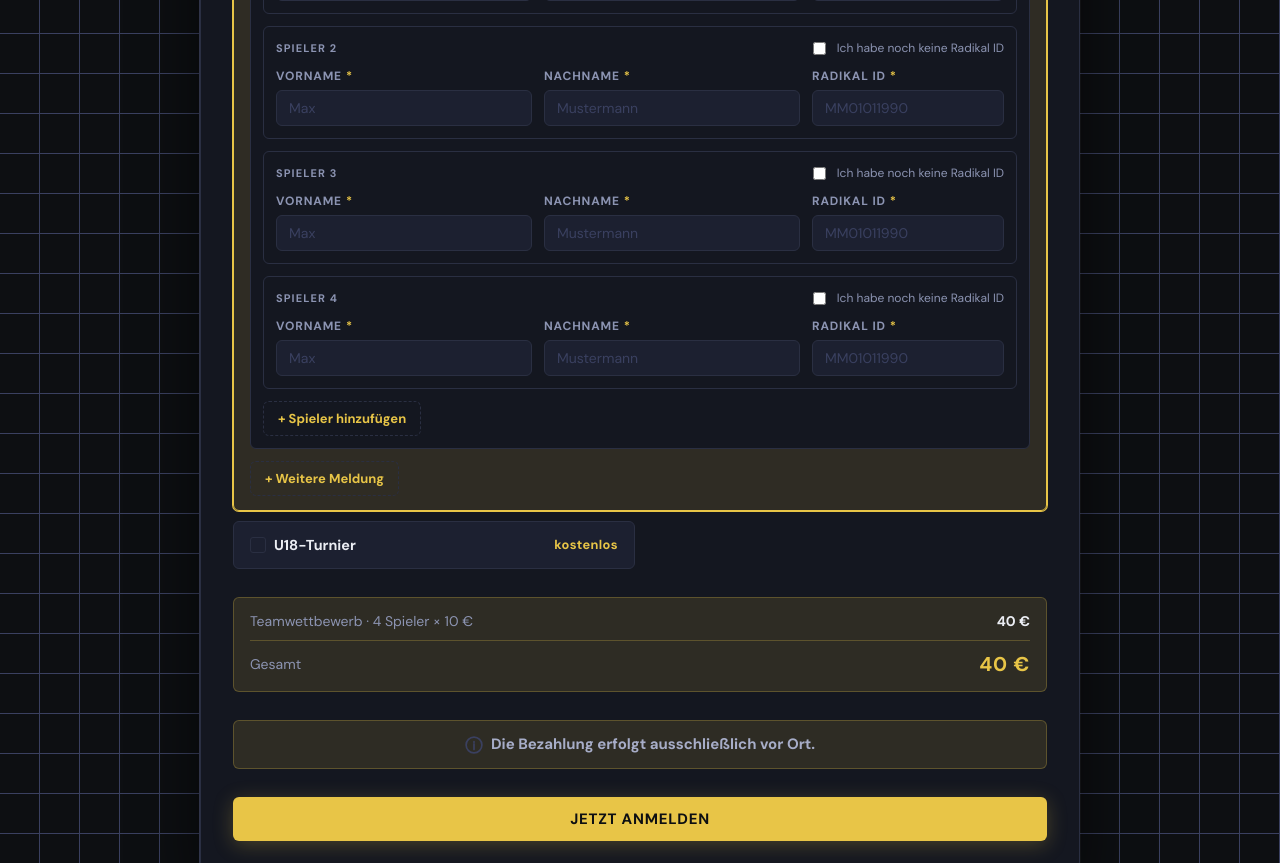
Test: AnmeldungComponent › Teamwettbewerb: 4 Pflichtzeilen, auffüllbar bis 6, keine 7.
(page scrolled)
Click the button with class "spieler-add".
click(342, 418)  # box [263,401,421,436]
(page scrolled)
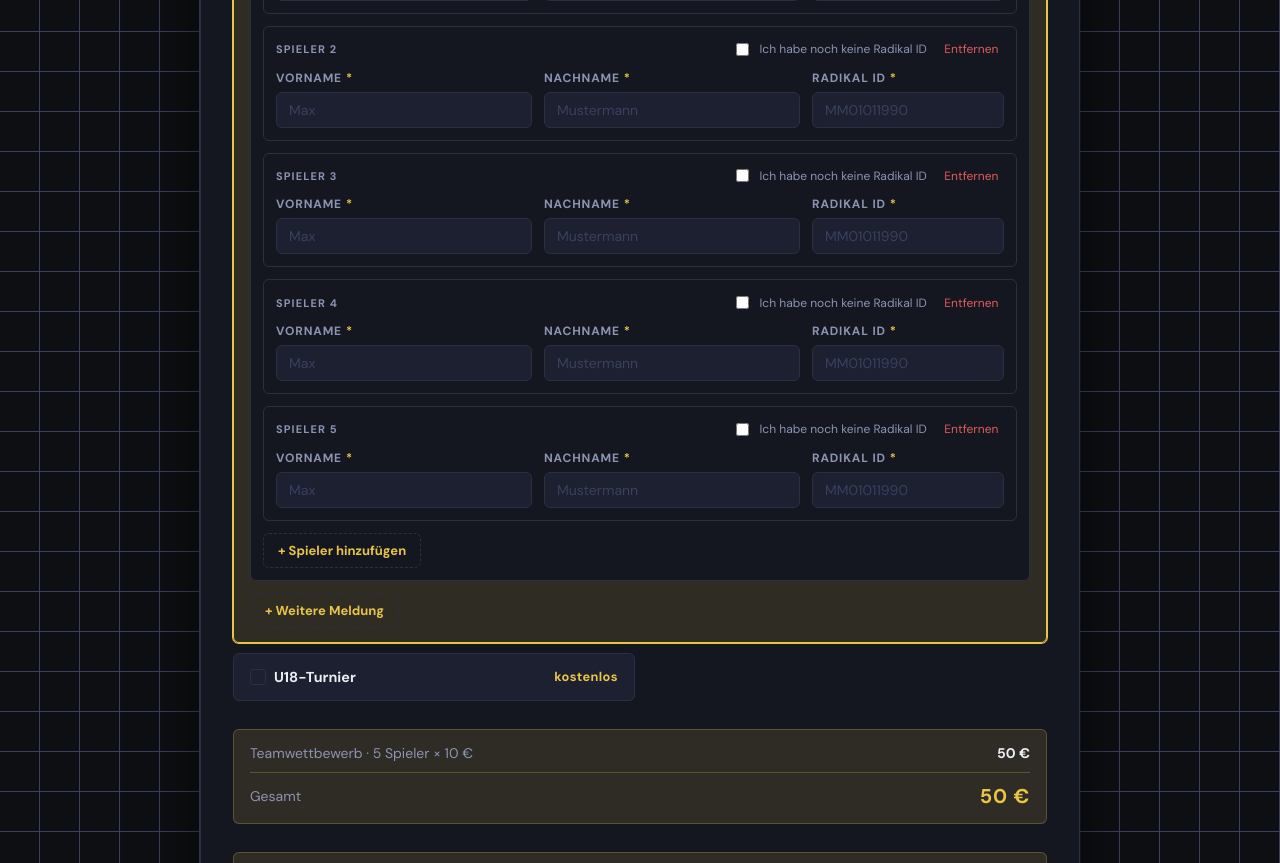
Click the button with class "spieler-add".
click(342, 550)  # box [263,533,421,568]
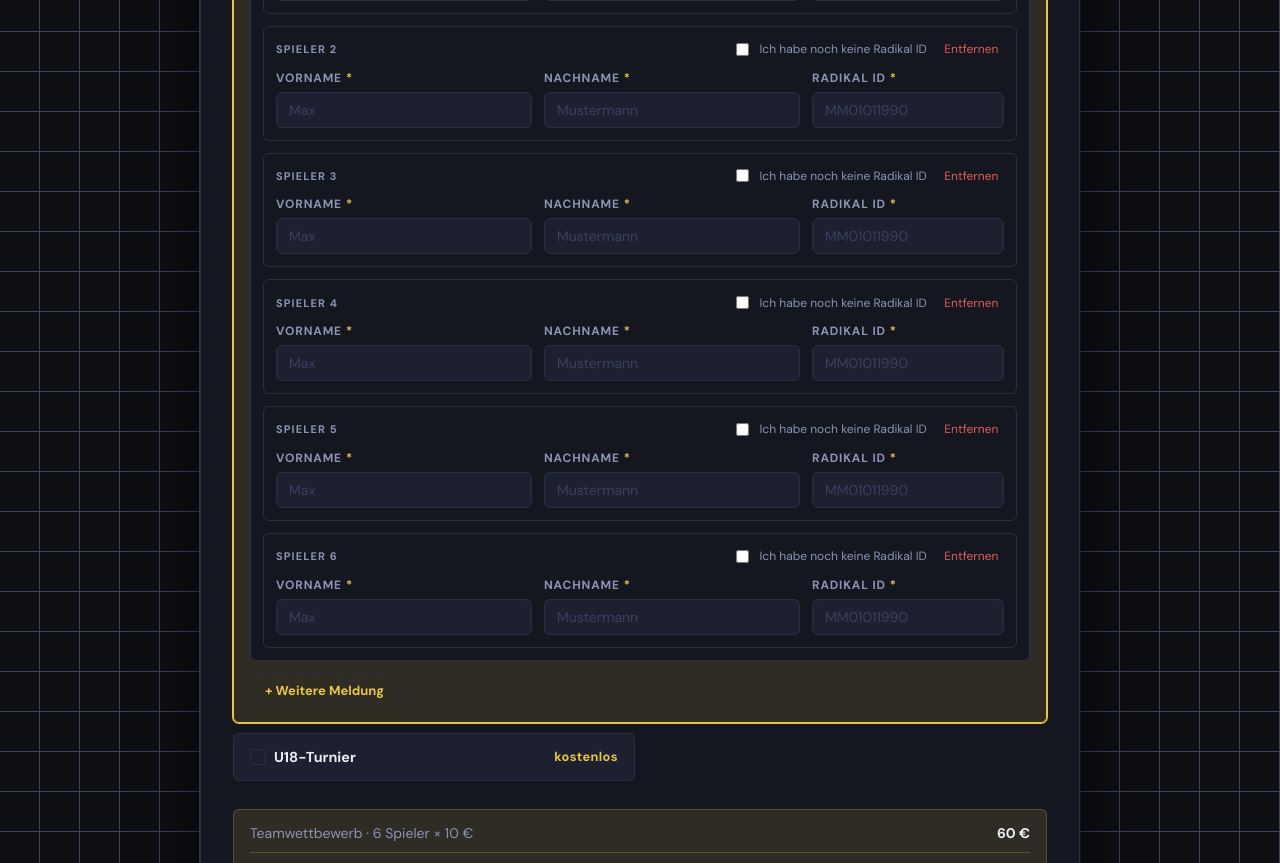
expect the button with class "spieler-add" is gone: met
